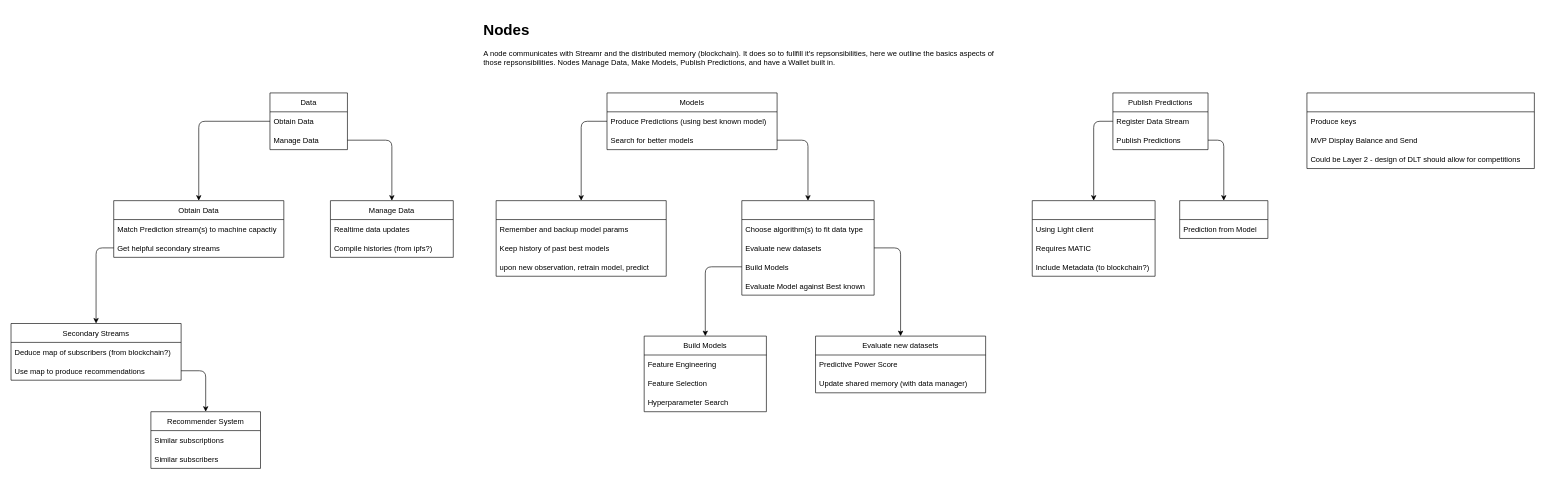
Some shapes in this 1545 by 479 pixel diagram are drawn without their labels. Here are the shapes that lost their labels. From the top down, the box of each, then its label:
(1306, 92, 1534, 169): Manage Wallet
(495, 200, 666, 276): Produce Predictions
(1032, 200, 1155, 276): Register
(1179, 200, 1268, 238): Publish
(741, 200, 874, 295): Search
